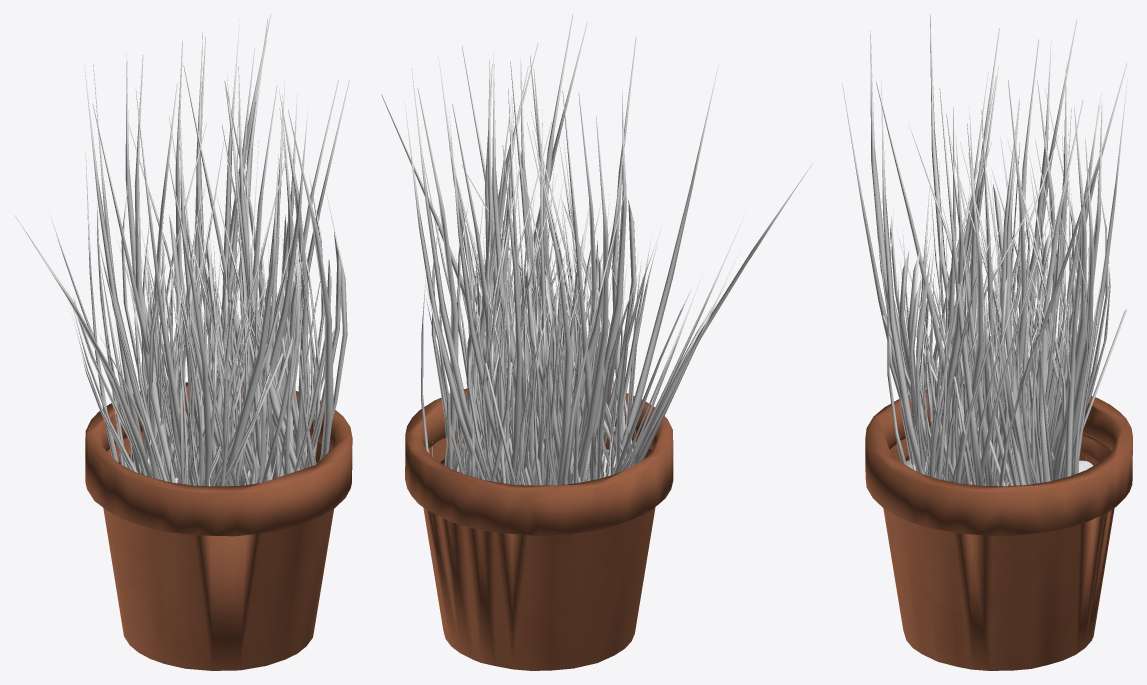
Rendered from chive.glb.
3 views of the same model, side by side, from view 1: azimuth 30°, elevation 25°; view 2: azimuth 150°, elevation 25°; view 3: azimuth 270°, elevation 25° (orthographic).
Parts seen in each view (by area): view 1: chive; view 2: chive; view 3: chive.
Boxes of the visible parts, bbox=[...] form: chive: bbox=[14, 14, 352, 670]; chive: bbox=[381, 14, 813, 670]; chive: bbox=[842, 14, 1132, 670].
Bounding box in the file's own units: 0.1513 × 0.2323 × 0.1073.
3 materials, 1 textured.
